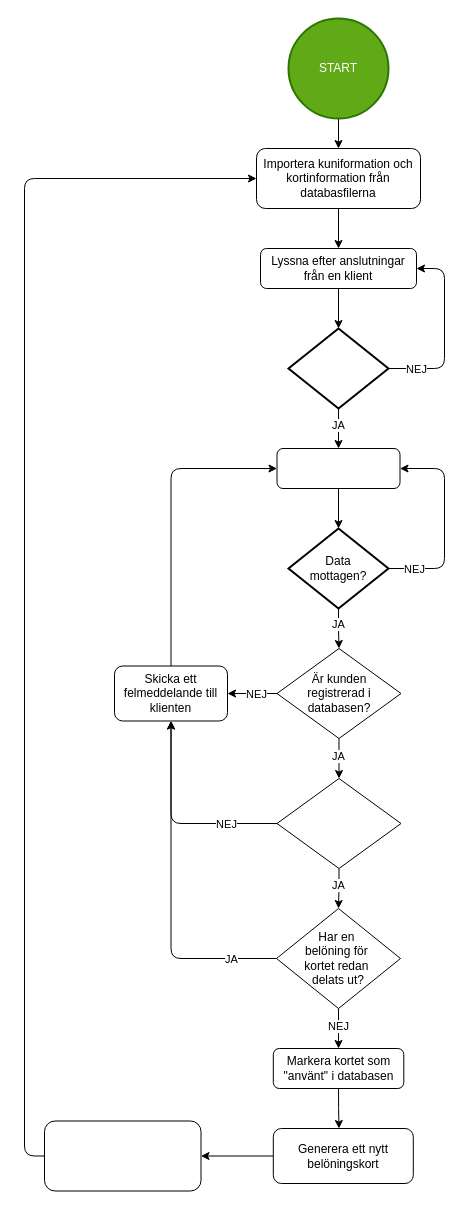
Some shapes in this 470 by 1208 pixel diagram are drawn without their labels. Here are the shapes that lost their labels. From the top down, the centre of each, then its label:
At pixel 338 368: "Anslutning hittad?".
At pixel 338 468: "Invänta kundnummer och kortserienummer".
At pixel 338 823: "Är kortet registrerat i databasen?".
At pixel 122 1155: "Skicka över ett meddelande till klienten om vilket kort användaren vunnit".
